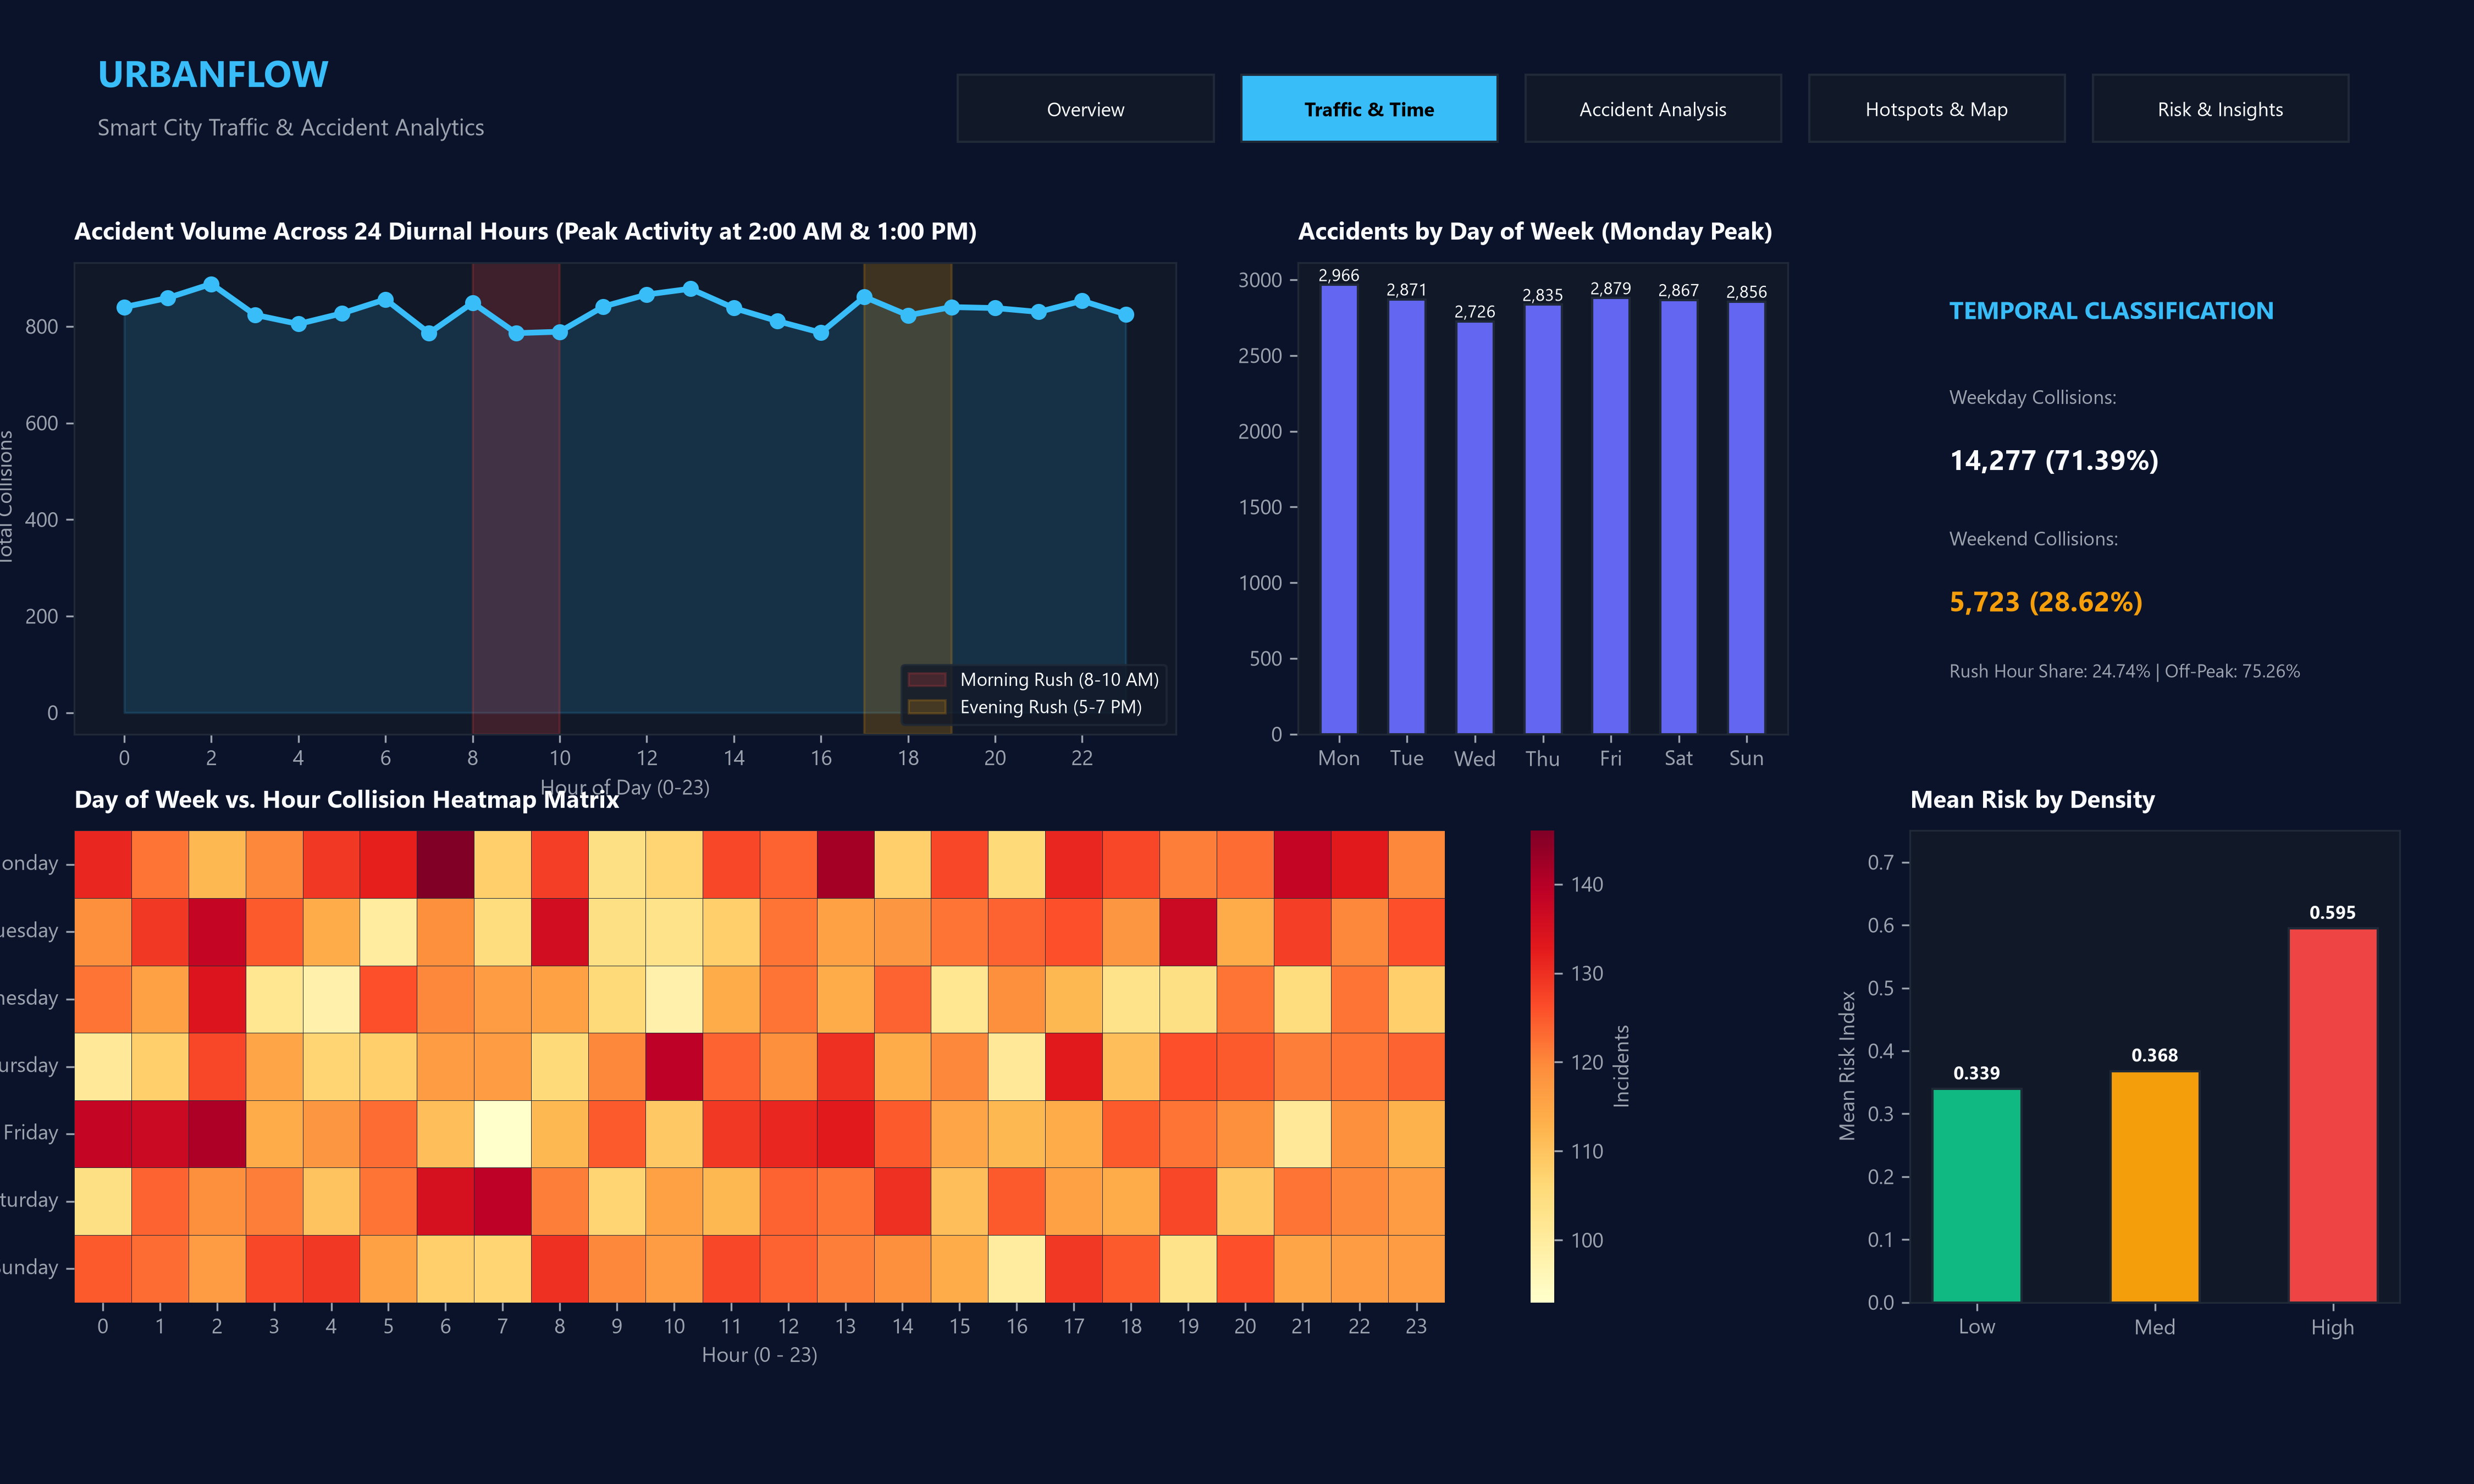

This screenshot's page, from the dashboard's own definition file:
{"tool":"powerbi","page":{"name":"Traffic & Time","canvas":[1920,1080],"ordinal":1},"visuals":[{"type":"clusteredColumnChart","title":"Accidents by Hour","fields":{"Category":["urbanflow_cleaned.hour"],"Y":["Dim_Calendar.Total Accidents"]},"box":[441.7,106.7,1061.7,470],"z":0},{"type":"clusteredColumnChart","title":"Accidents by Day","fields":{"Category":["Dim_Calendar.DayOfWeekName"],"Y":["Dim_Calendar.Total Accidents"]},"box":[58.3,625,580,410],"z":1000},{"type":"clusteredColumnChart","title":"Risk by Time Period","fields":{"Category":["urbanflow_cleaned.time_period"],"Y":["Dim_Calendar.Average Risk Score"]},"box":[1266.7,625,598.3,410],"z":2000},{"type":"textbox","box":[785,23.3,506.7,63.3],"z":2001}]}

Visuals, with their boxes on the page's 1920x1080 design canvas (x1, y1, x2, y2). These are canvas units, not pixel positions in the 2474x1484 screenshot, which may show the page scaled, cropped or inside an application window:
"Accidents by Hour" clusteredColumnChart: (442,107,1503,577)
"Accidents by Day" clusteredColumnChart: (58,625,638,1035)
"Risk by Time Period" clusteredColumnChart: (1267,625,1865,1035)
textbox: (785,23,1292,87)
